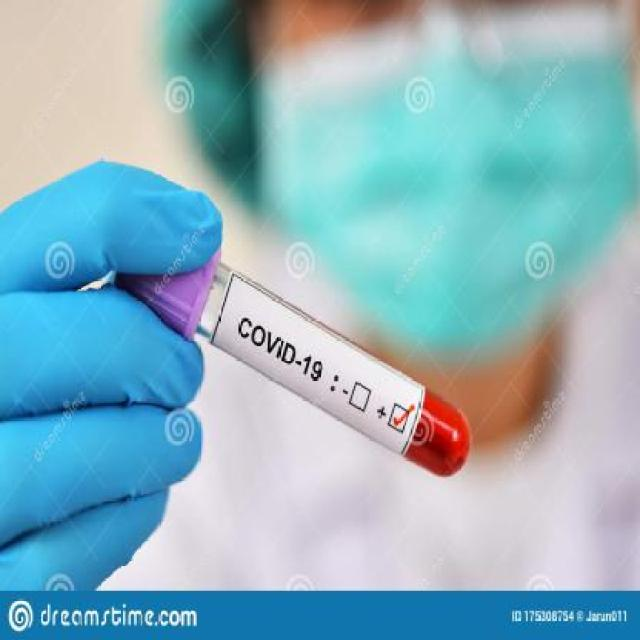Experimental-tube: (111, 225, 472, 480)
